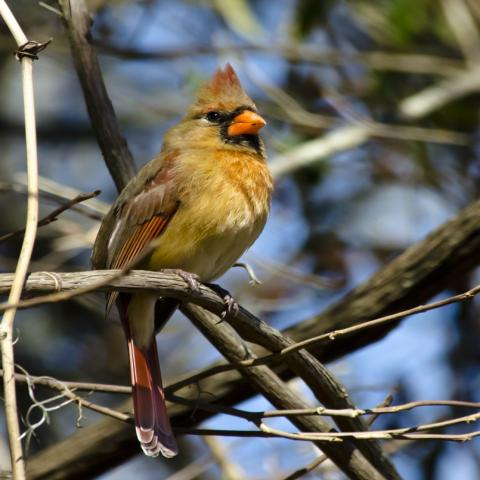bird: (86, 61, 275, 459)
